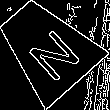N_NW: (14, 16, 79, 79)
